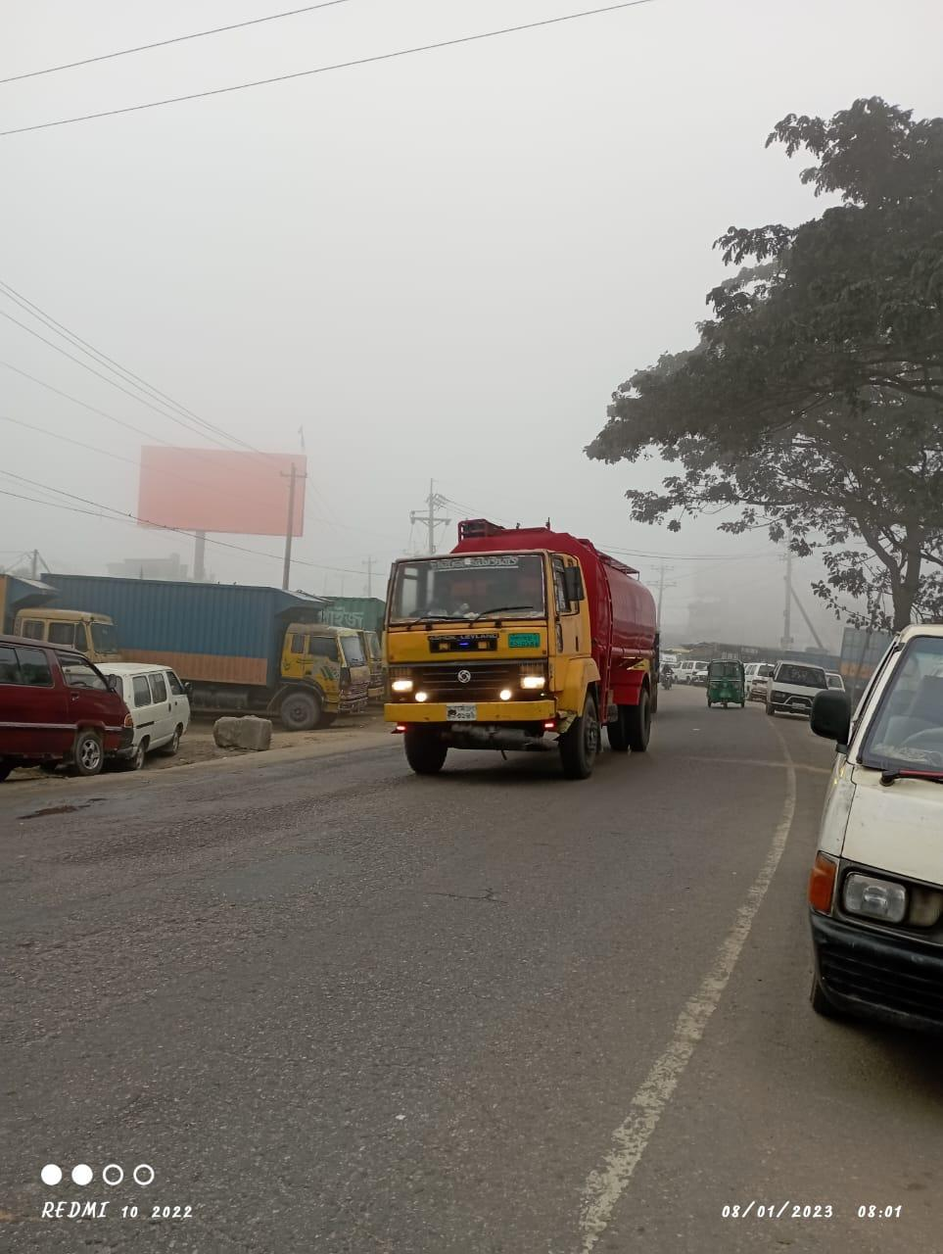Car: (804, 615, 943, 1051), (5, 624, 139, 793), (104, 653, 201, 760), (769, 657, 839, 725)
Truck: (381, 528, 668, 788), (41, 561, 370, 725)
